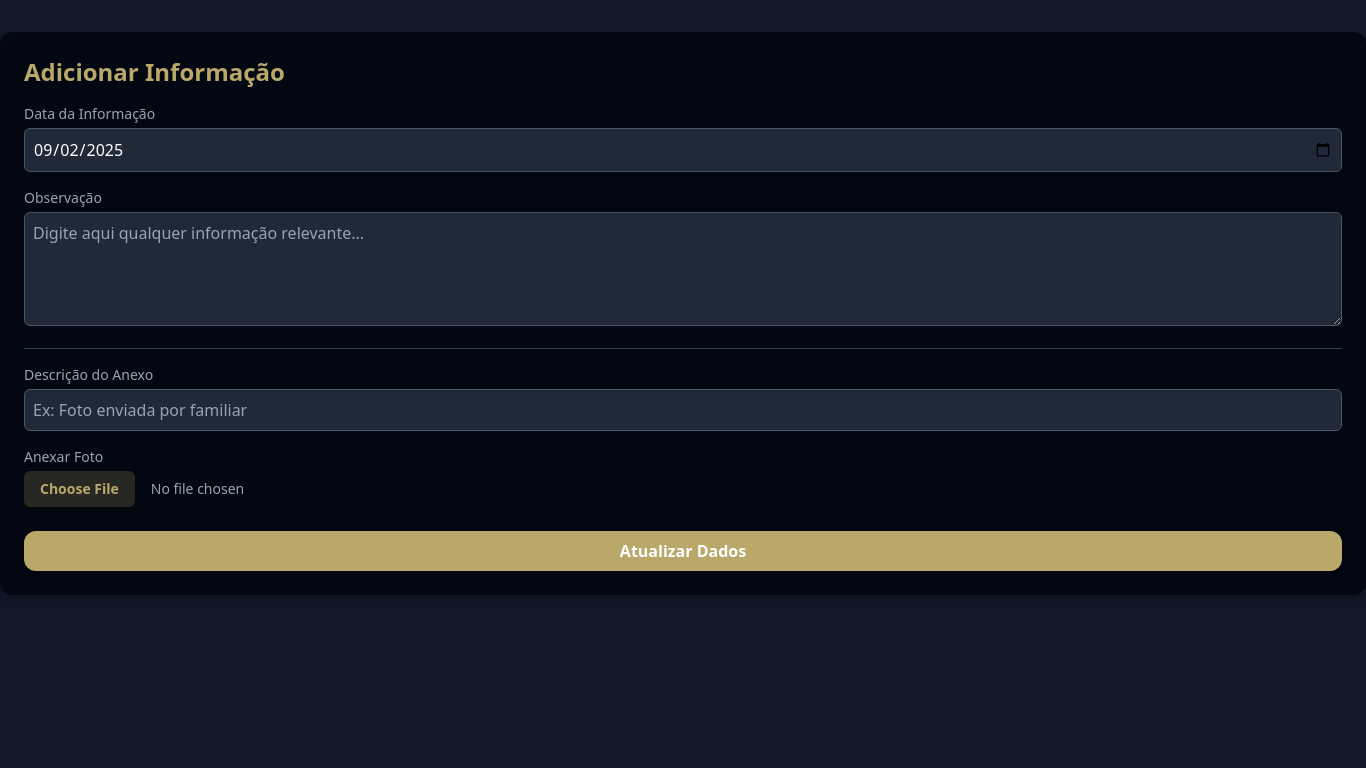
Test: Testes para FormularioAtualizacao › deve preencher o formulário e submeter os dados corretamente
The width and height of the screenshot is (1366, 768).
Type "Nova informação sobre o caso." into the text box with placeholder "Digite aqui qualquer informação relevante..." at x=683, y=269, box [24,212,1342,326]
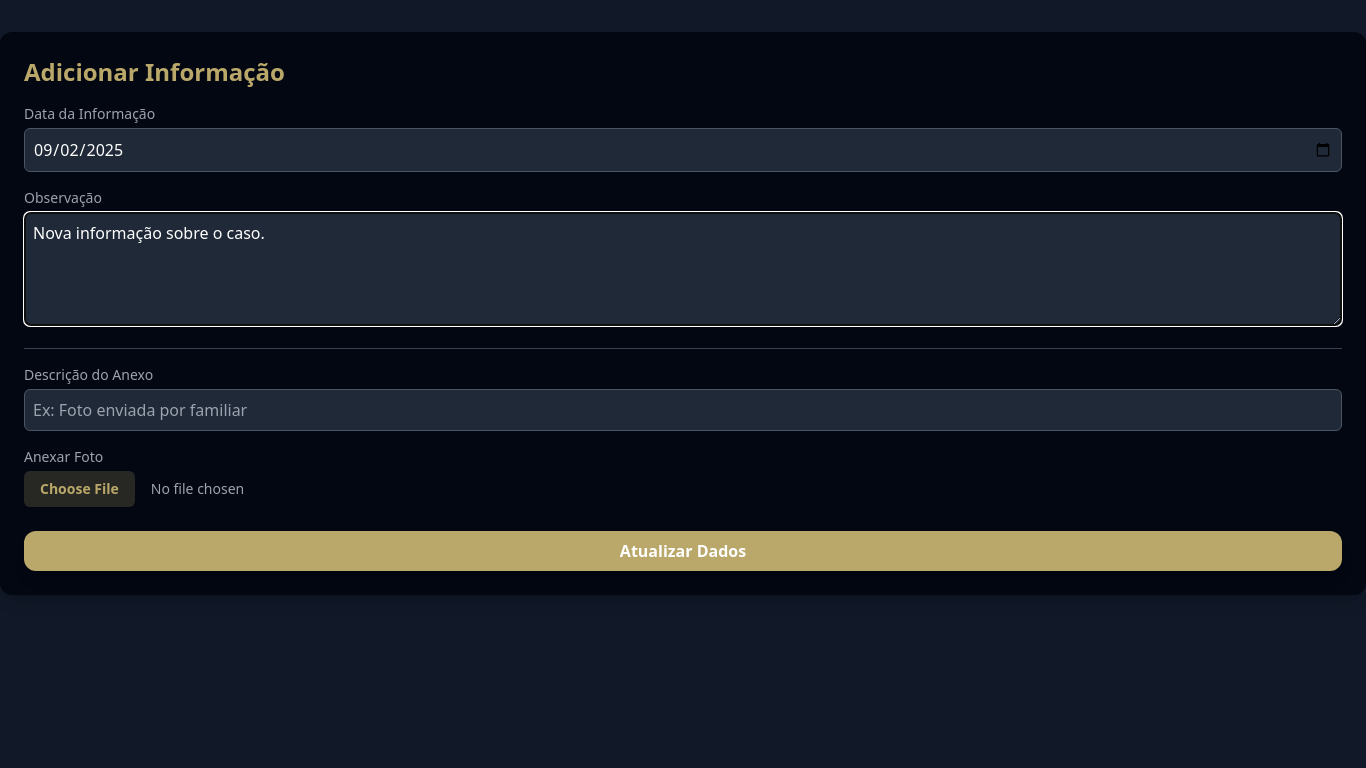
Click the button "Atualizar Dados" at x=683, y=551, box [24,531,1342,571]
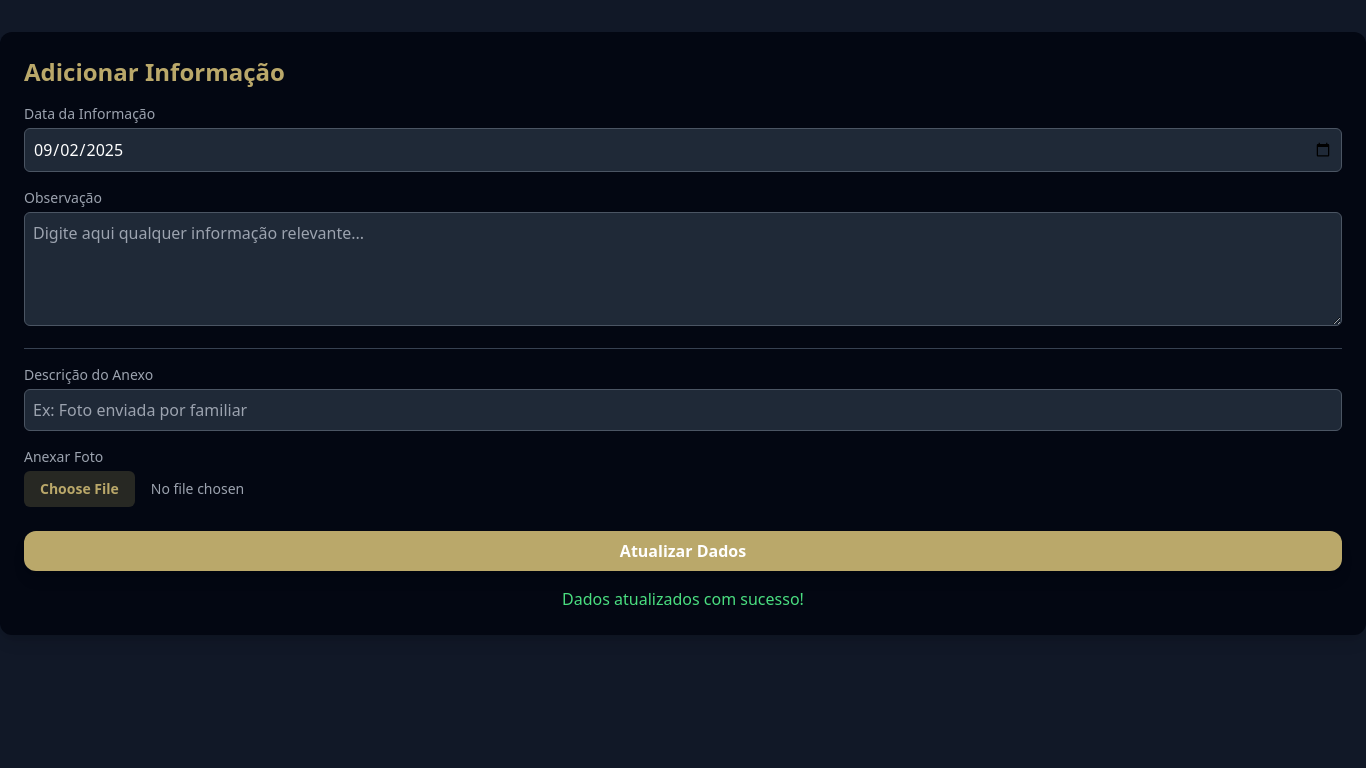
expect the text "Dados atualizados com sucesso!" is shown: met, box [562,588,804,610]
